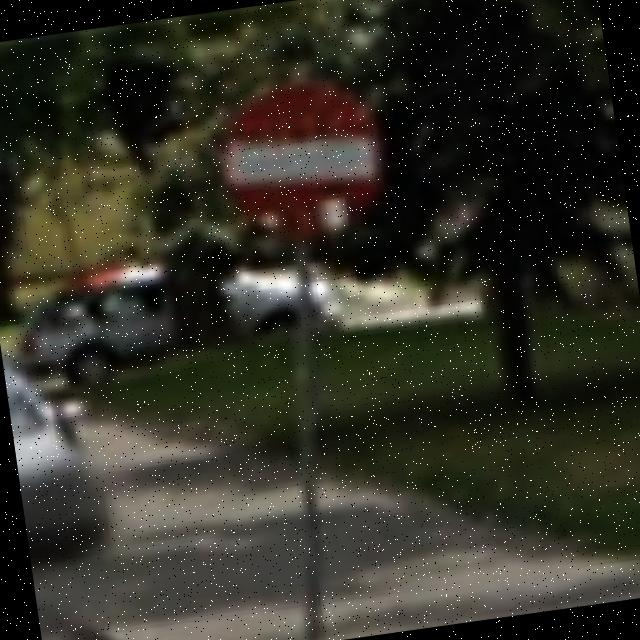Zakaz wjazdu: (211, 66, 393, 254)
